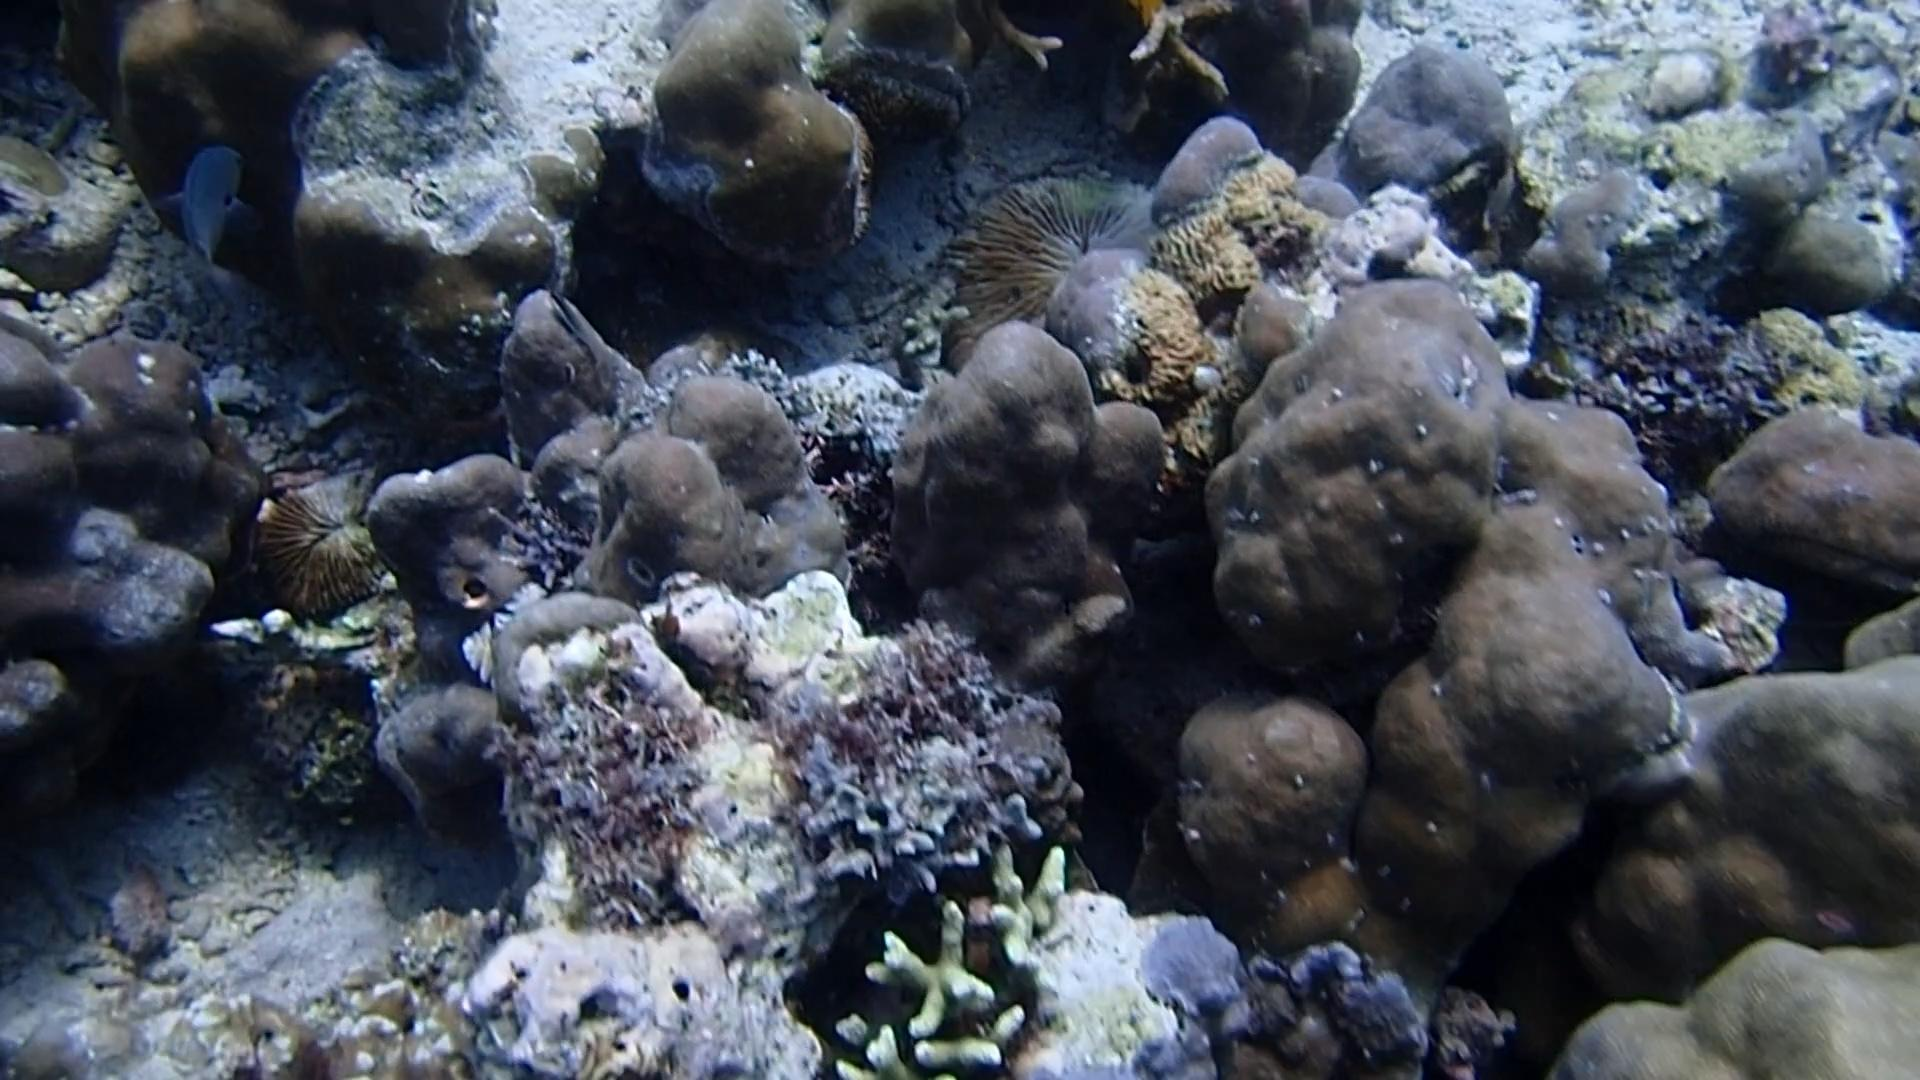Blue Fish Two: (154, 132, 266, 281)
